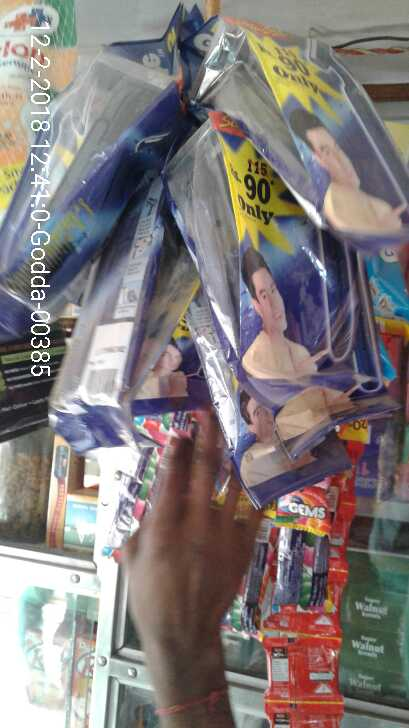reject: (124, 246, 233, 429)
